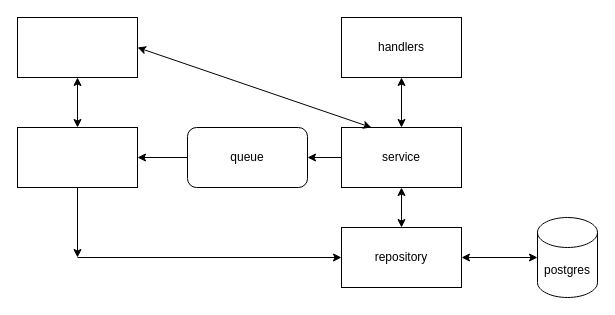
Image size: 615x315. Some labels were removed from this diagram. Here are the shapes that lost their labels. From the top down, the box of each, then its label:
(16, 16, 138, 78): clients
(16, 126, 138, 188): payment-demon
